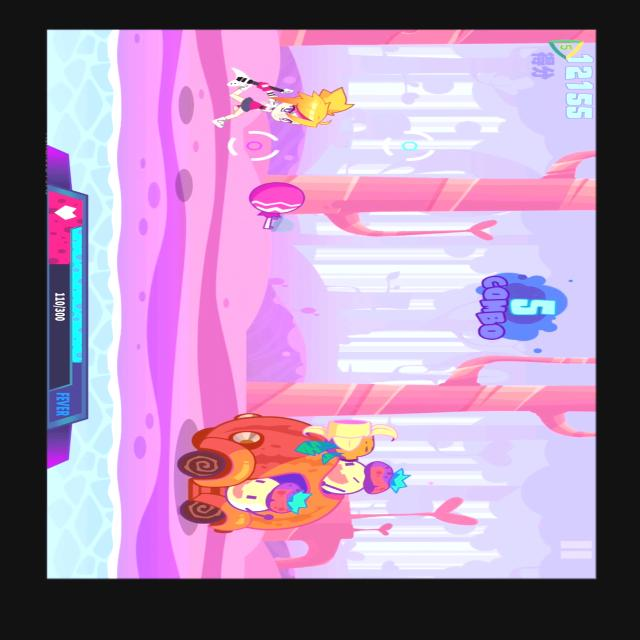Boss-Pumpkin: (158, 406, 414, 542)
Ground Monster - Candy: (234, 175, 324, 239)
